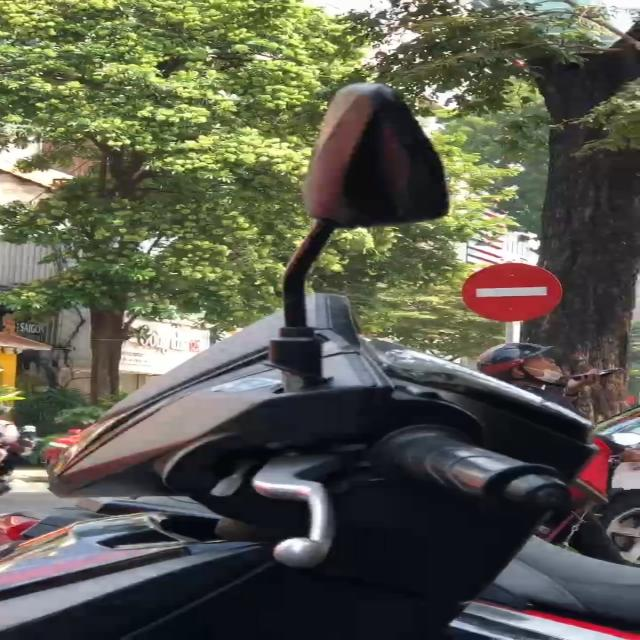Bien bao cam di nguoc chieu: (454, 260, 572, 328)
